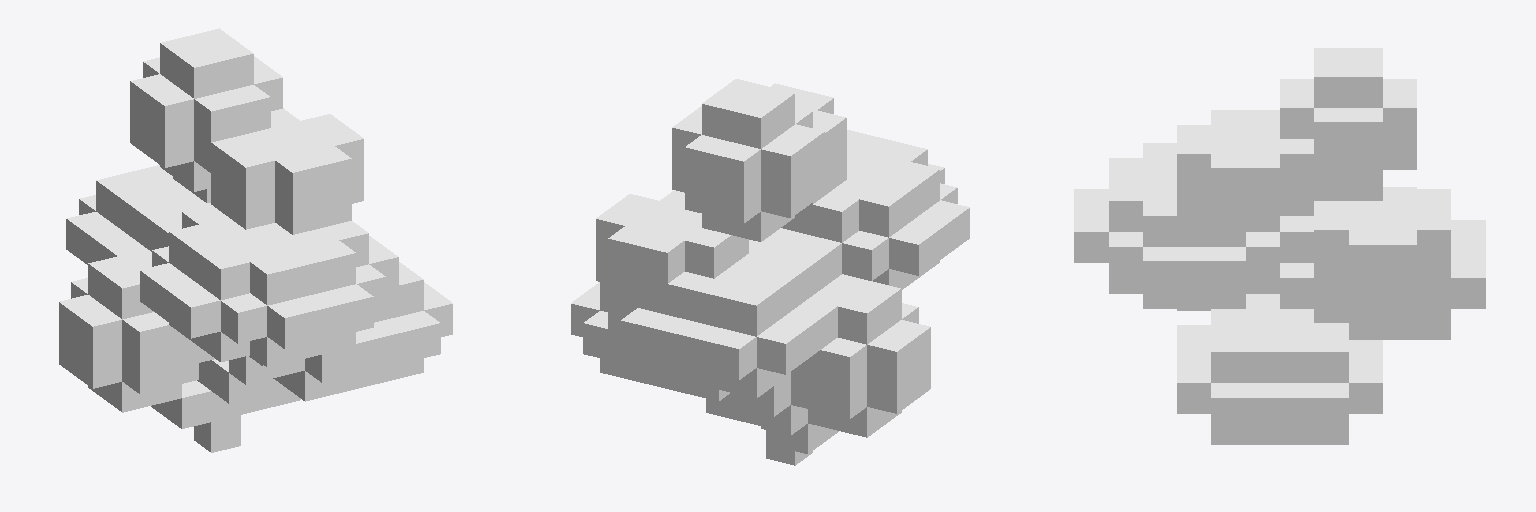
File: flower-5.obj
3 views of the same model, side by side, from view 1: azimuth 30°, elevation 25°; view 2: azimuth 150°, elevation 25°; view 3: azimuth 270°, elevation 25° (orthographic).
Parts seen in each view (by area): view 1: object 1; view 2: object 1; view 3: object 1.
Boxes of the visible parts, <box> form: object 1: <box>59,28,452,452</box>; object 1: <box>571,79,969,465</box>; object 1: <box>1074,48,1485,444</box>.
Size of the model in its own units: 1.1 by 1.2 by 1.2.